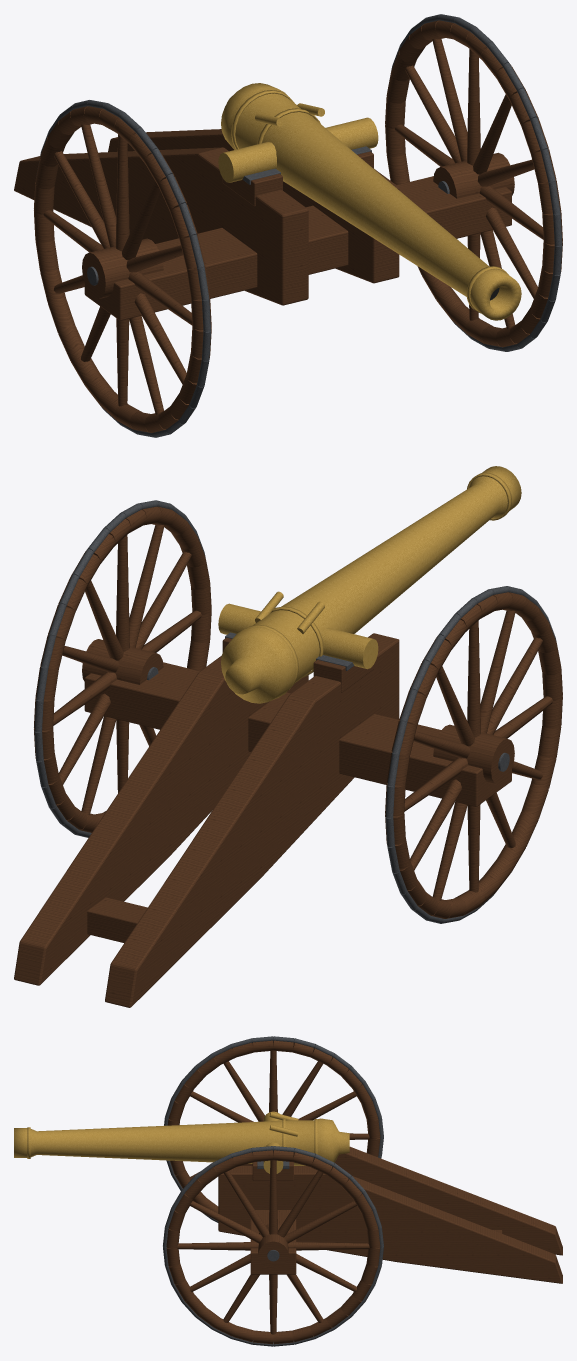
File: cannon_ri12.glb
3 views of the same model, one above another, from view 1: azimuth 30°, elevation 25°; view 2: azimuth 150°, elevation 25°; view 3: azimuth 270°, elevation 25° (orthographic). The views are drawn at different scales.
Parts seen in each view (by area): view 1: cannon_ri12.body, cannon_ri12.barrel; view 2: cannon_ri12.body, cannon_ri12.barrel; view 3: cannon_ri12.body, cannon_ri12.barrel.
Part boxes in pixels (bbox=[...]): cannon_ri12.body: bbox=[14, 14, 562, 437]; cannon_ri12.barrel: bbox=[218, 83, 521, 320]; cannon_ri12.body: bbox=[14, 500, 562, 1007]; cannon_ri12.barrel: bbox=[218, 466, 521, 703]; cannon_ri12.body: bbox=[163, 1036, 562, 1346]; cannon_ri12.barrel: bbox=[14, 1111, 349, 1173].
Bounding box in the file's own units: 2 × 1.45 × 3.6.
Materials: 4 (4 with a texture image).
